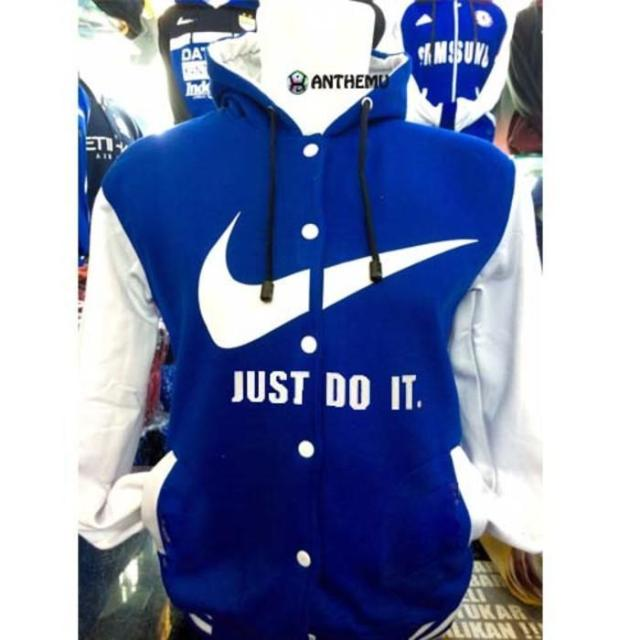sweater: (91, 30, 522, 638)
